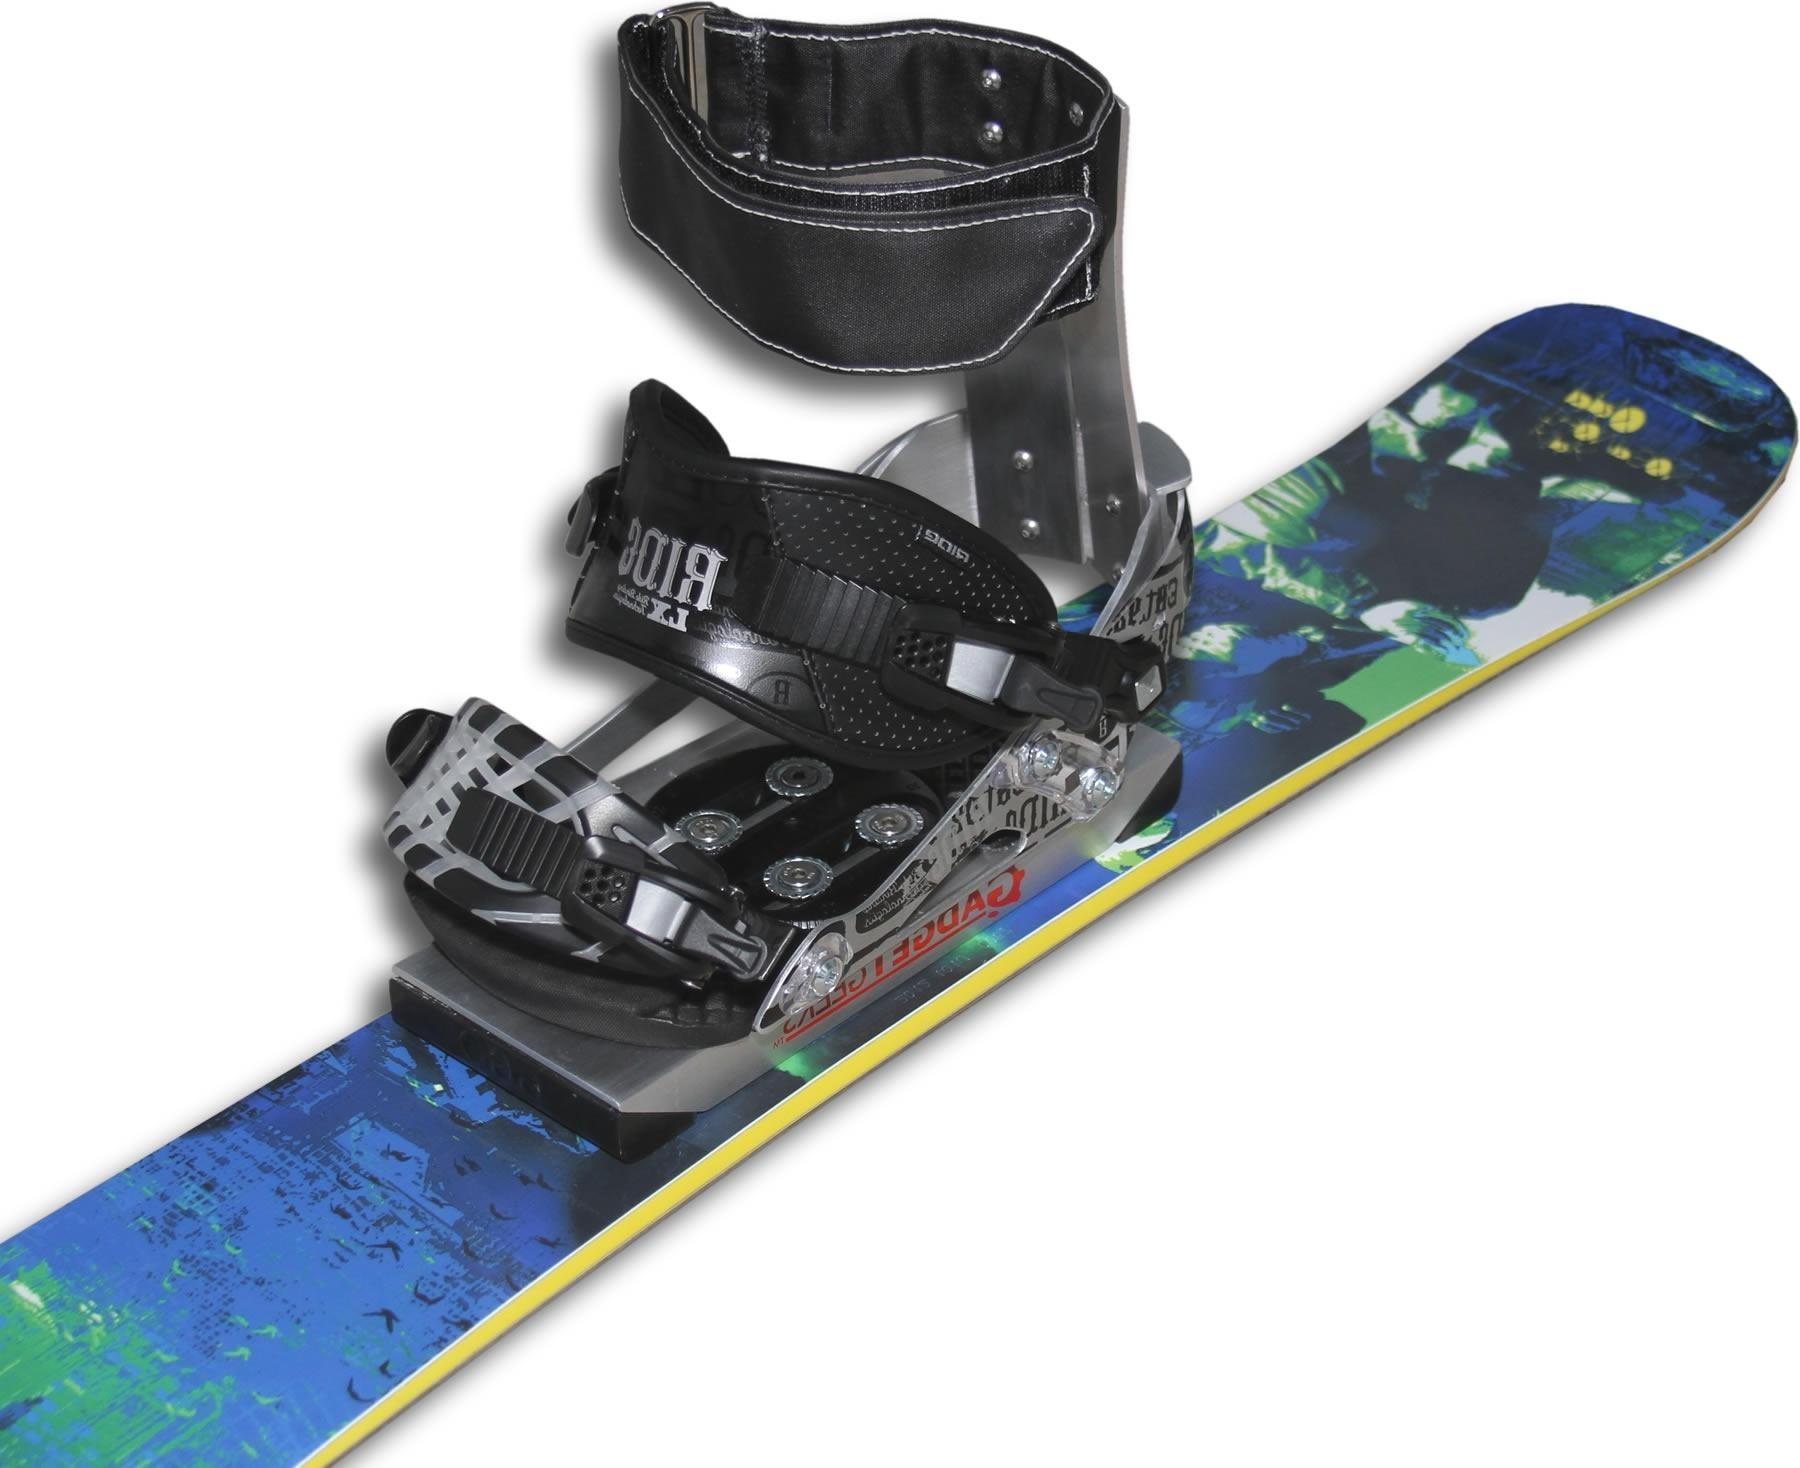Skis: (0, 268, 1800, 1468)
